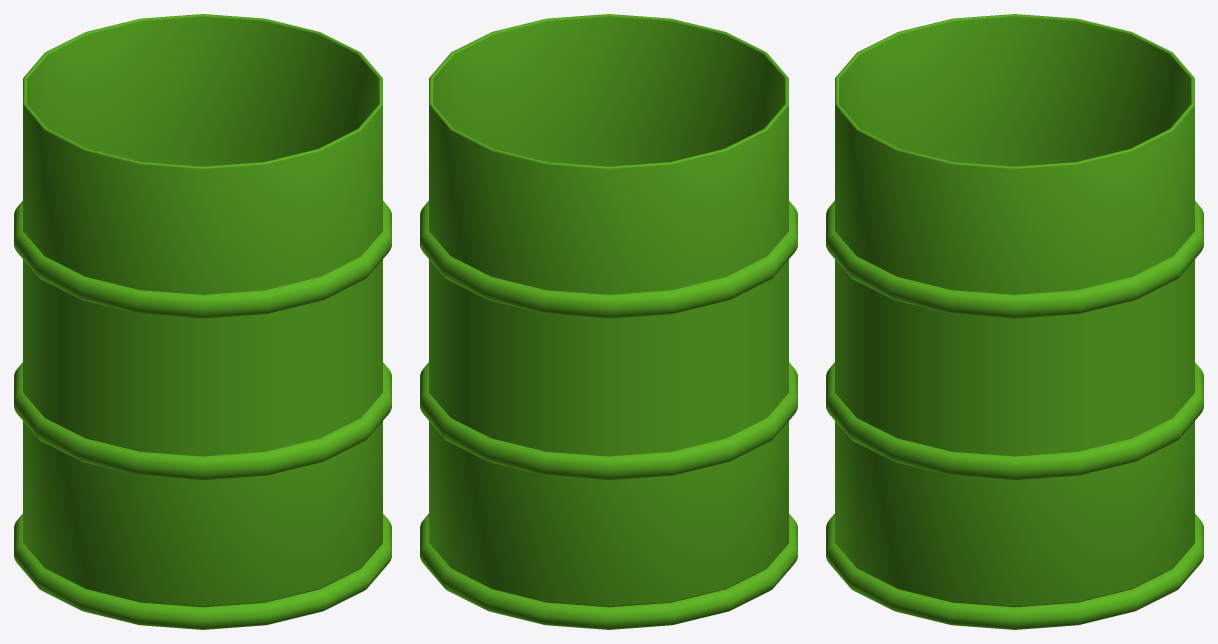
Rendered from BarilOpen.fbx.
The picture shows the model from 3 angles, left to right: view 1: azimuth 30°, elevation 25°; view 2: azimuth 150°, elevation 25°; view 3: azimuth 270°, elevation 25°; orthographic projection.
Visible parts, largest first — view 1: BarilOpen_Lp001; view 2: BarilOpen_Lp001; view 3: BarilOpen_Lp001.
Part boxes in pixels (box(x1,y1,x2,y2)): BarilOpen_Lp001: box(14, 14, 391, 629); BarilOpen_Lp001: box(420, 14, 797, 629); BarilOpen_Lp001: box(826, 14, 1203, 629).
Bounding box in the file's own units: 13.56 × 18.02 × 13.35.
